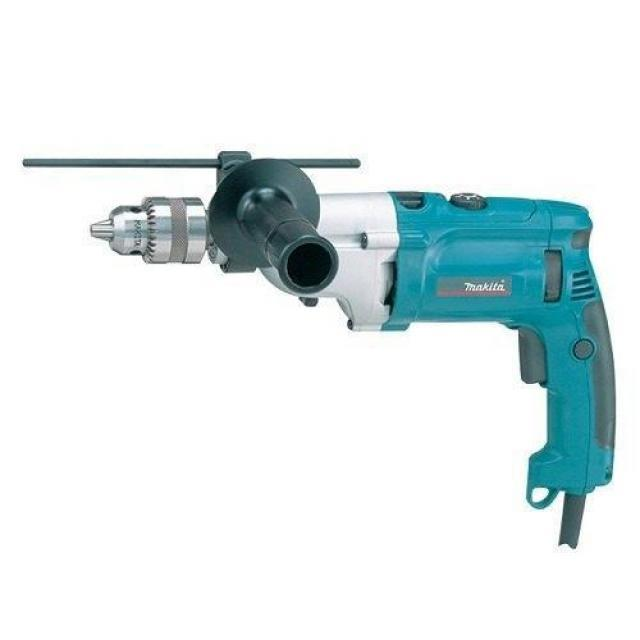drill: (21, 151, 618, 554)
